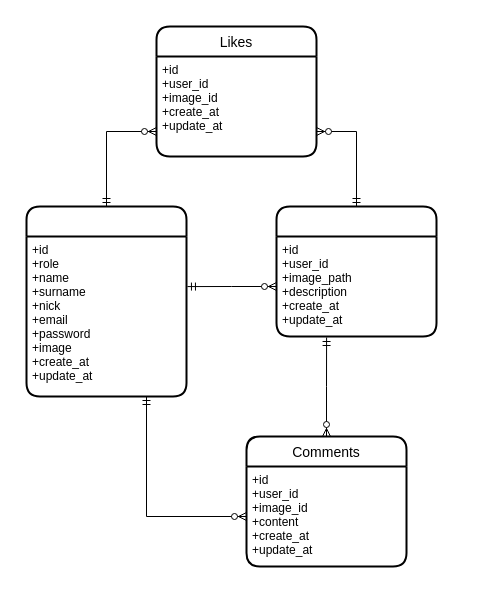
This 493x593 diagram has some shape labels left out. The shapes that lost their labels are listed below. From the top down, each one's box as (x1, y1, x2, y2) in pixels, then its label:
(275, 205, 437, 337): Images
(25, 205, 187, 397): User
